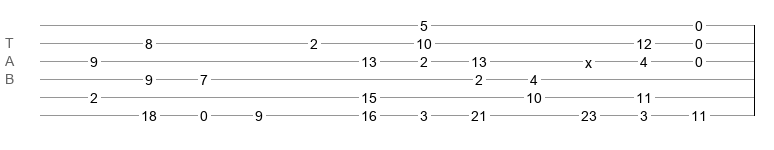0: (200, 108, 208, 118), (695, 18, 703, 28), (695, 54, 703, 64), (695, 36, 703, 46)
10: (416, 36, 432, 46), (526, 90, 542, 100)
11: (636, 90, 652, 100), (691, 108, 707, 118)
12: (636, 36, 652, 46)
13: (361, 54, 377, 64), (471, 54, 487, 64)
15: (361, 90, 377, 100)
16: (361, 108, 377, 118)
18: (141, 108, 157, 118)
2: (90, 90, 98, 100), (310, 36, 318, 46), (420, 54, 428, 64), (475, 72, 483, 82)
21: (471, 108, 487, 118)
23: (581, 108, 597, 118)
3: (420, 108, 428, 118), (640, 108, 648, 118)
4: (530, 72, 538, 82), (640, 54, 648, 64)
5: (420, 18, 428, 28)
7: (200, 72, 208, 82)
8: (145, 36, 153, 46)
9: (90, 54, 98, 64), (145, 72, 153, 82), (255, 108, 263, 118)
x: (585, 55, 592, 63)
